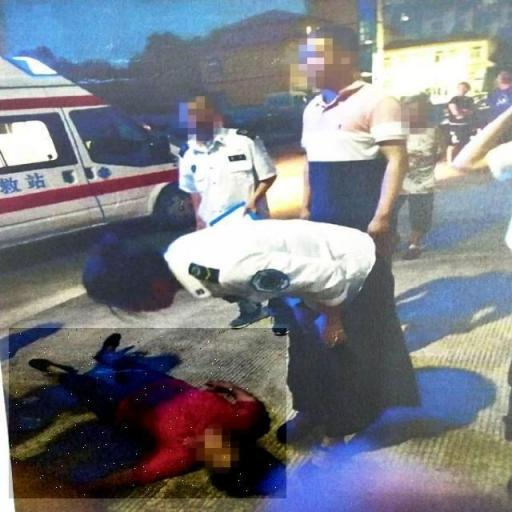Fall: (9, 328, 286, 498)
